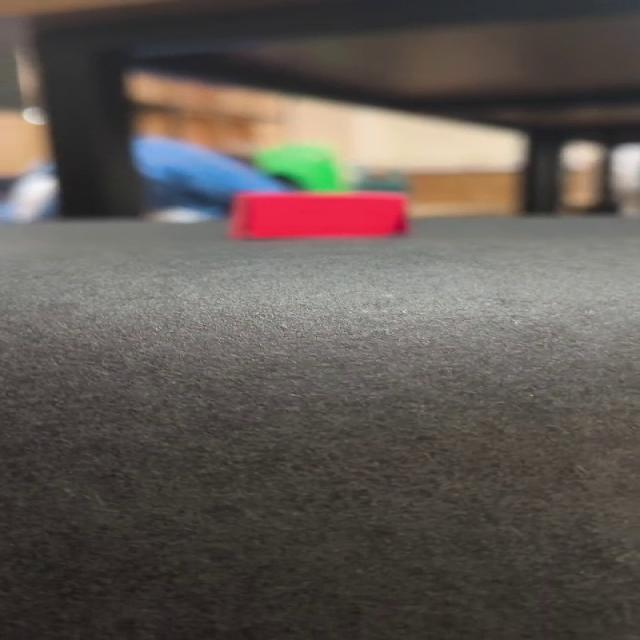red block: (227, 190, 409, 240)
